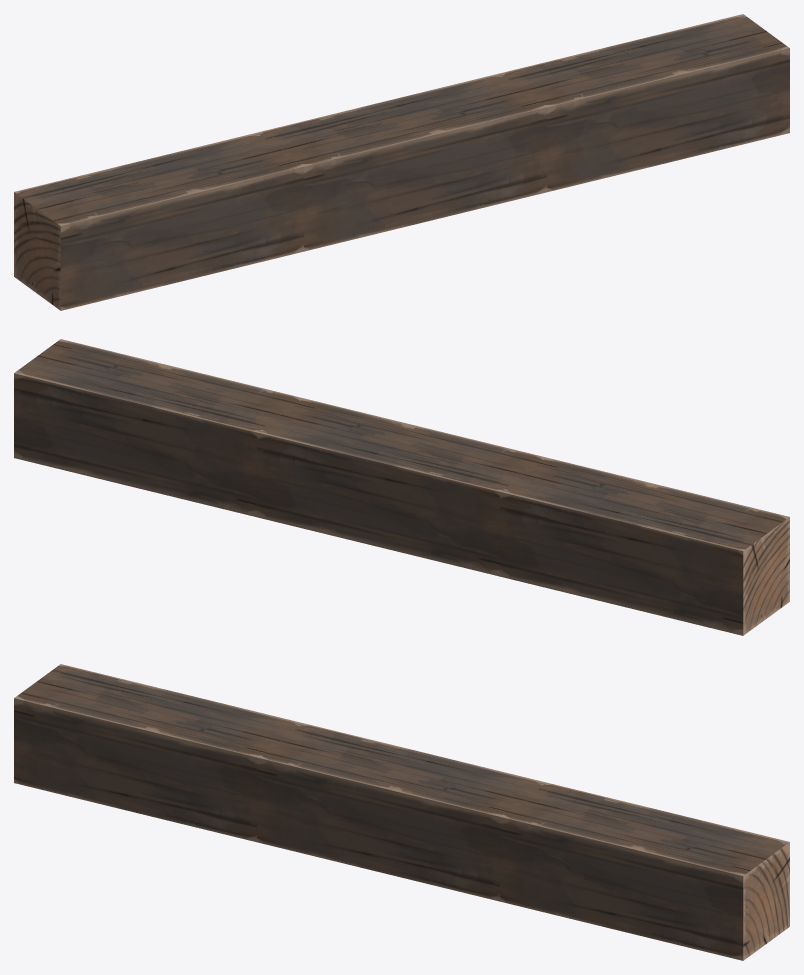
Rendered from foundation_container05.fbx.
The picture shows the model from 3 angles, top to bottom: view 1: azimuth 30°, elevation 25°; view 2: azimuth 150°, elevation 25°; view 3: azimuth 330°, elevation 25°; orthographic projection.
Parts seen in each view (by area): view 1: foundation_container05; view 2: foundation_container05; view 3: foundation_container05.
Part boxes in pixels (left/top/right/bottom): foundation_container05: left=14, top=14, right=789, bottom=310; foundation_container05: left=14, top=339, right=789, bottom=635; foundation_container05: left=14, top=664, right=789, bottom=960.
Bounding box in the file's own units: 450 × 50 × 50.
